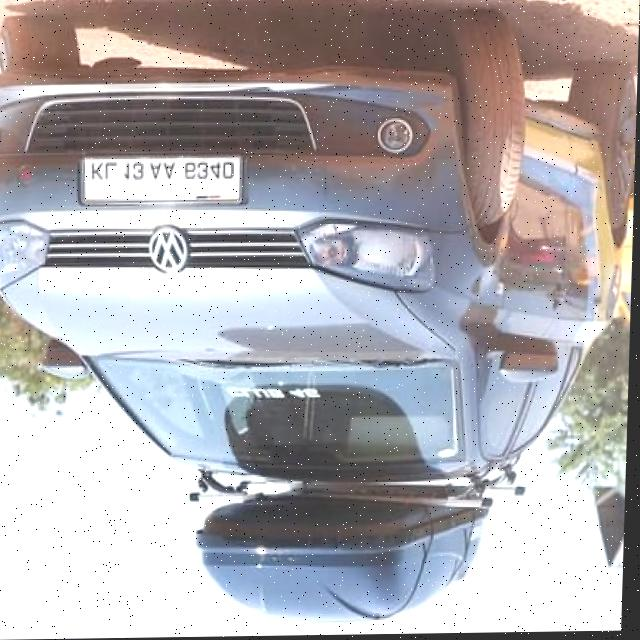plate: (85, 158, 245, 205)
